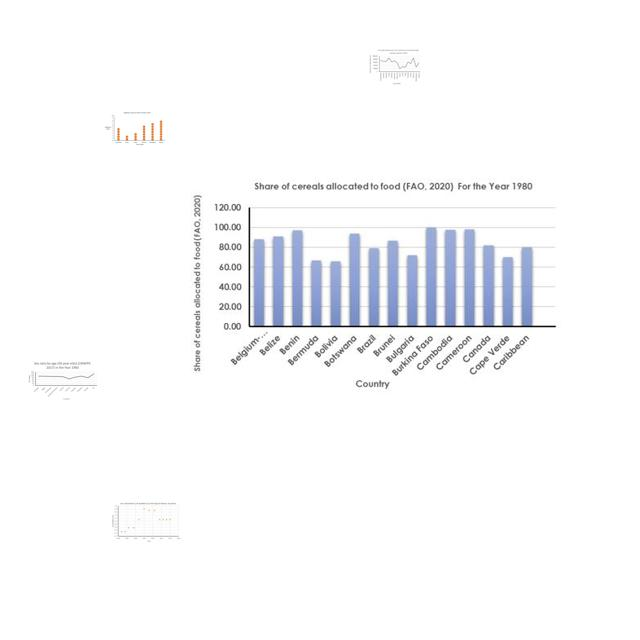Graph: (184, 178, 565, 394), (110, 500, 182, 544), (28, 361, 98, 400), (103, 111, 166, 147), (368, 48, 421, 86)
